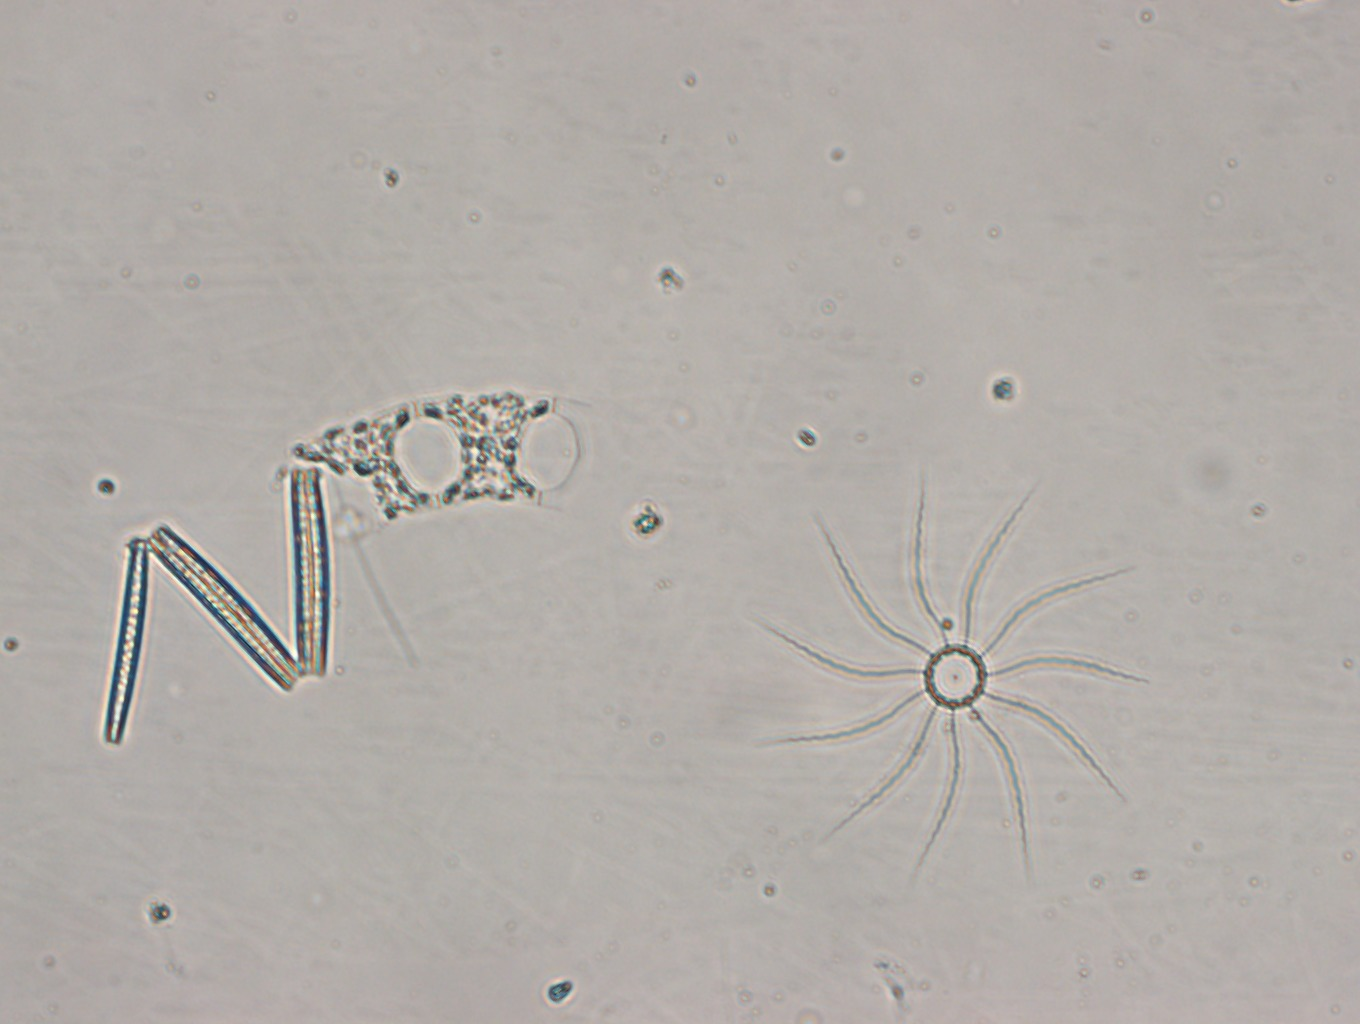bacteriastrum: (749, 474, 1143, 880)
eucampia: (269, 386, 605, 541)
thalassionema nitzschioides: (96, 463, 338, 749)
